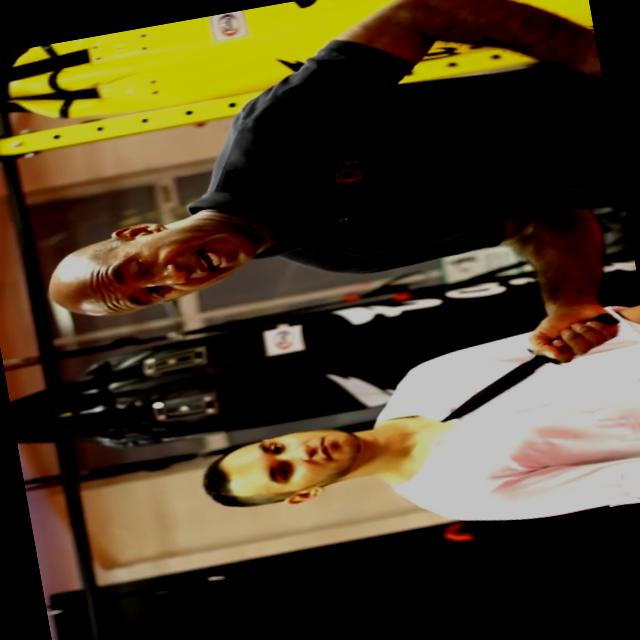knife: (418, 307, 636, 427)
